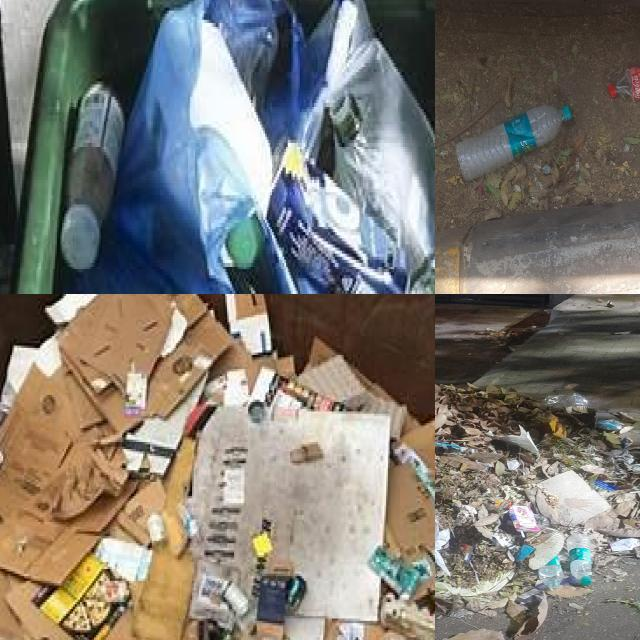Background: (435, 4, 640, 230)
Garbage: (0, 294, 435, 640), (56, 0, 435, 294), (435, 384, 640, 639)
Glass_bottle: (61, 84, 124, 271), (223, 581, 249, 617)
Plastic_Bag: (62, 0, 435, 294), (435, 570, 515, 596), (545, 389, 589, 408), (485, 497, 513, 511)
Plastic_bottle: (456, 105, 571, 181), (205, 0, 279, 104), (566, 533, 592, 586), (608, 65, 640, 102), (538, 557, 562, 591)
Plastic_wraper: (592, 479, 619, 491), (515, 545, 534, 562), (596, 420, 624, 430), (435, 442, 466, 451), (459, 544, 473, 562)
Tetrapack: (268, 142, 405, 294), (510, 505, 540, 532)
